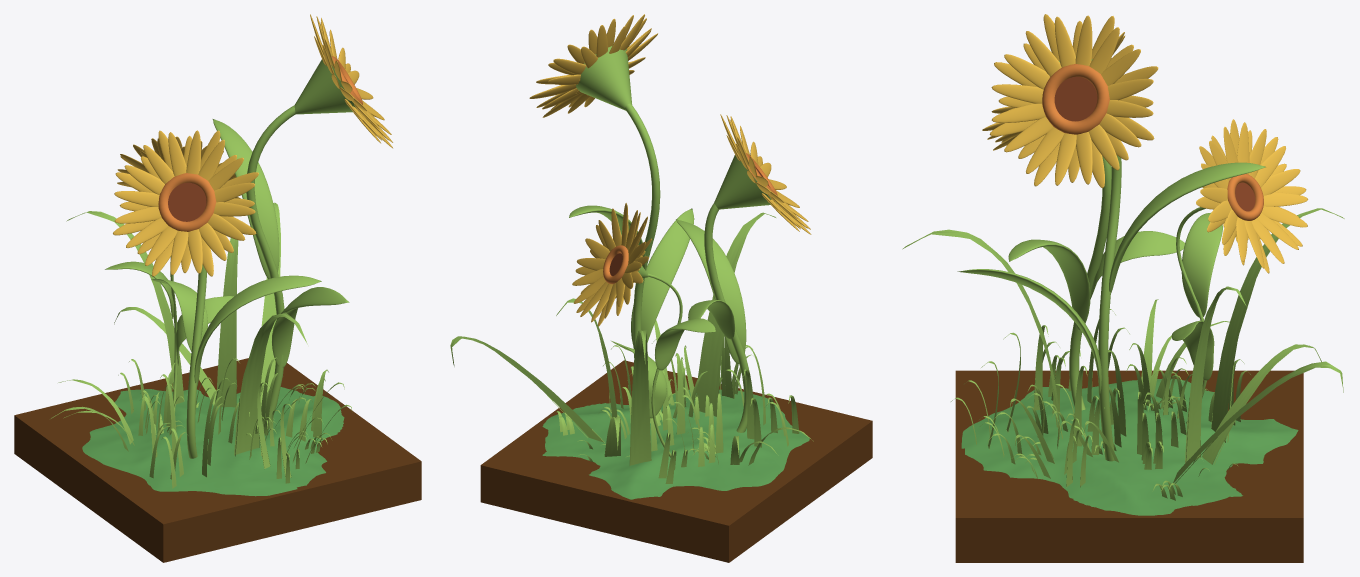
The model's file is sunflower.fbx.
3 views of the same model, side by side, from view 1: azimuth 30°, elevation 25°; view 2: azimuth 150°, elevation 25°; view 3: azimuth 270°, elevation 25° (orthographic). The views are drawn at different scales.
Visible parts, largest first — view 1: sunflower; view 2: sunflower; view 3: sunflower.
Boxes of the visible parts, left/top/right/bottom form: sunflower: left=14, top=14, right=421, bottom=562; sunflower: left=450, top=14, right=872, bottom=562; sunflower: left=902, top=14, right=1344, bottom=562.
Bounding box in the file's own units: 416 × 579 × 447.
